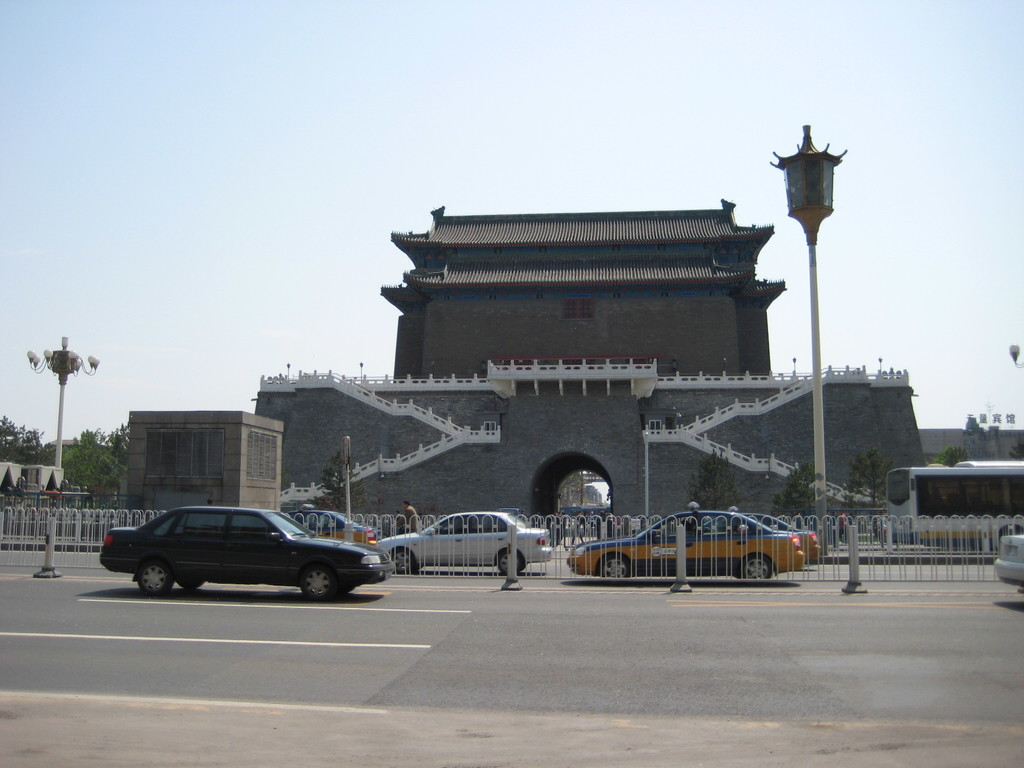Car: (101, 488, 389, 604), (567, 509, 805, 582), (369, 508, 553, 576), (745, 510, 818, 563), (284, 506, 382, 541), (986, 528, 1023, 590)
